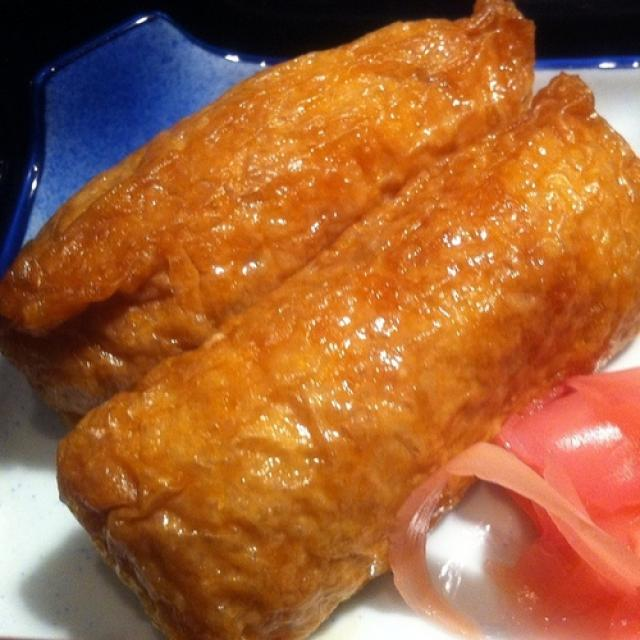寿司卷物: (22, 23, 608, 618)
